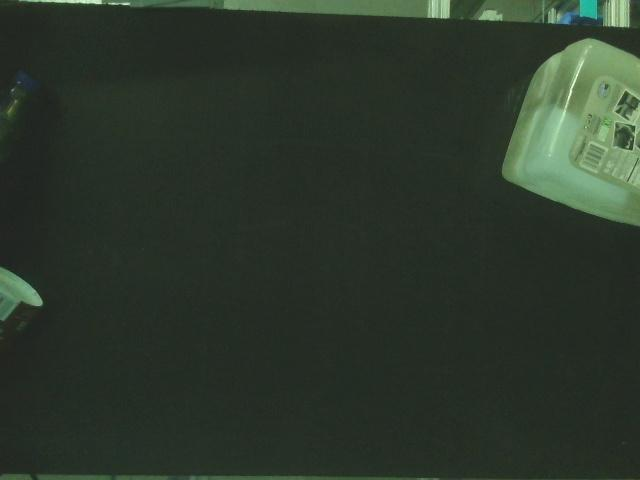cardboard: (1, 264, 45, 352)
plastic: (499, 35, 640, 228), (0, 68, 41, 168)
